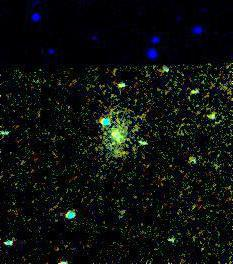star: (101, 122, 131, 152)
